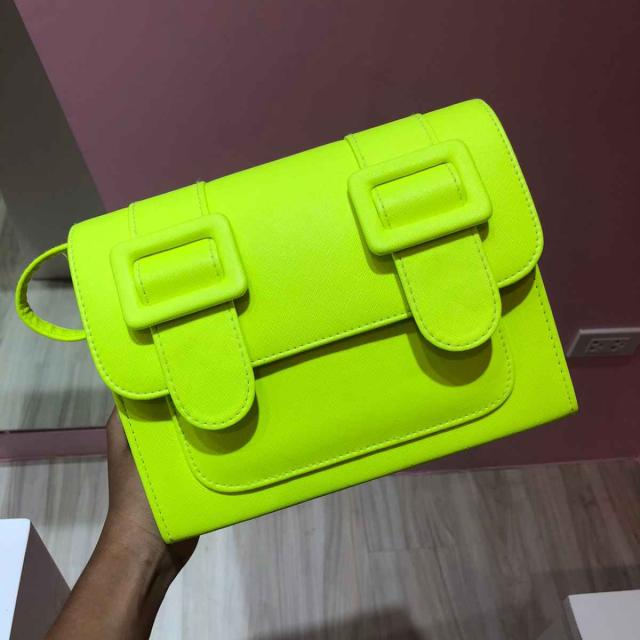Handbag: (67, 87, 579, 550)
